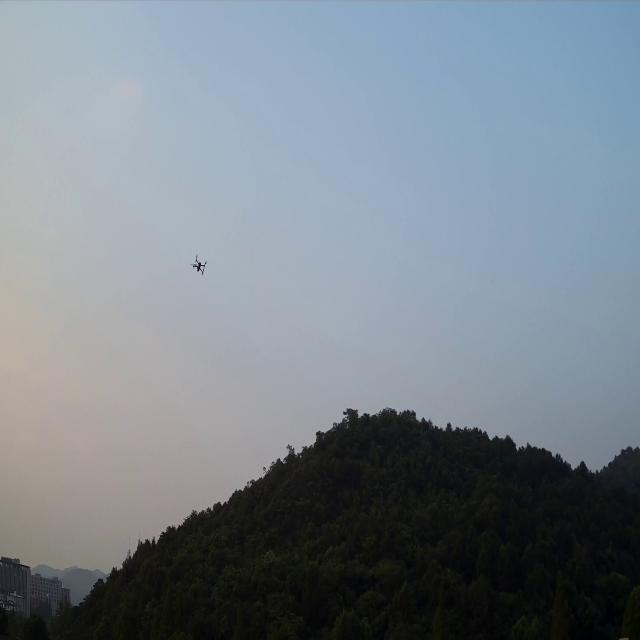UAV: (190, 253, 207, 275)
